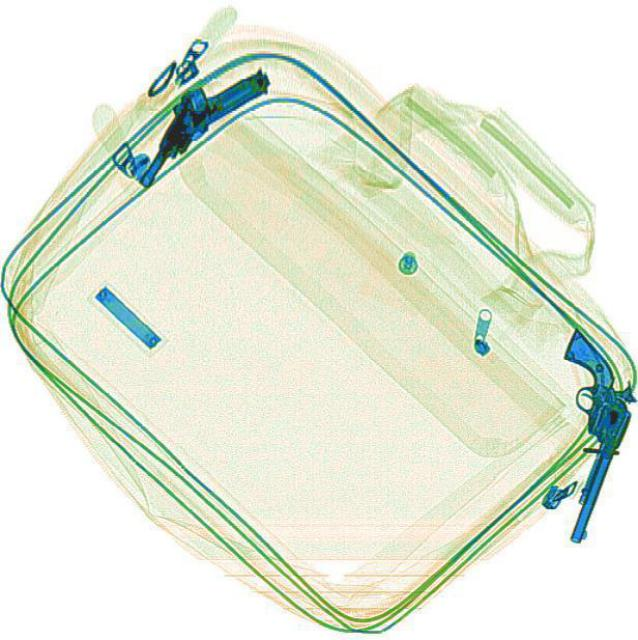Gun: (505, 348, 636, 542), (108, 46, 275, 186)
